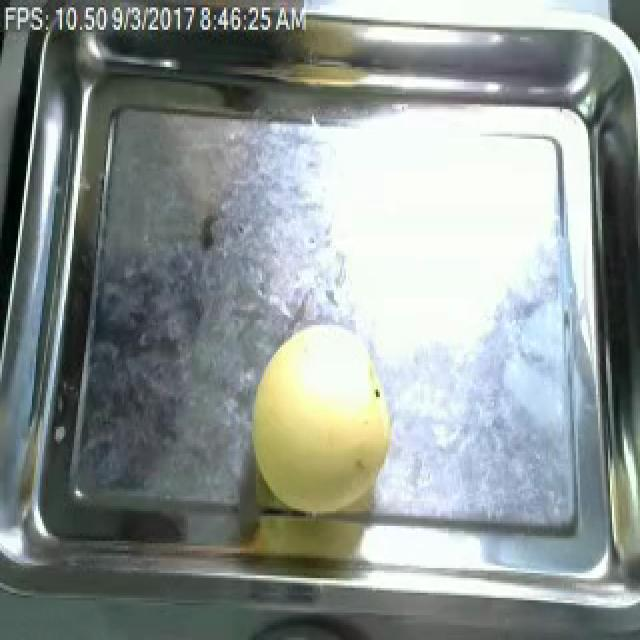Fruit: (238, 317, 404, 521)
